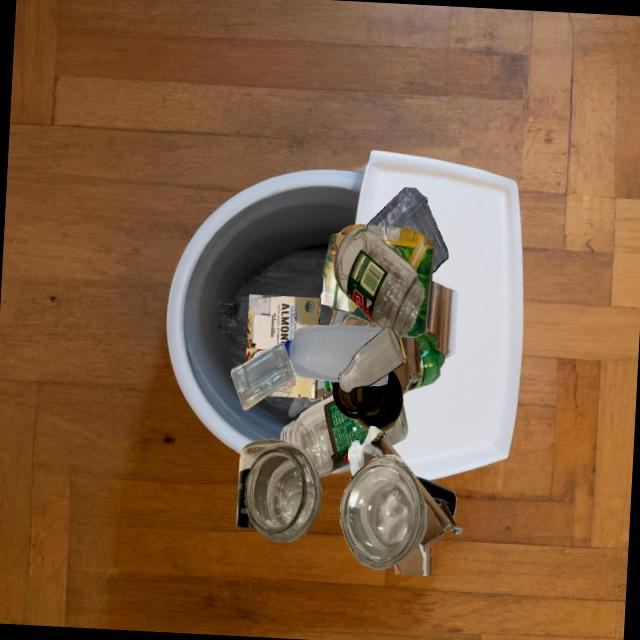cardboard: (348, 426, 463, 576), (320, 224, 435, 337), (246, 294, 321, 362), (394, 333, 424, 395), (330, 310, 370, 327), (308, 380, 333, 401)
glass: (333, 227, 425, 338), (340, 454, 427, 570), (245, 442, 321, 542), (280, 396, 369, 477), (236, 439, 289, 529), (332, 370, 403, 432), (338, 327, 404, 393), (416, 476, 456, 518)
plastic: (367, 187, 448, 273), (284, 325, 383, 382), (231, 342, 294, 410), (407, 332, 445, 391)
